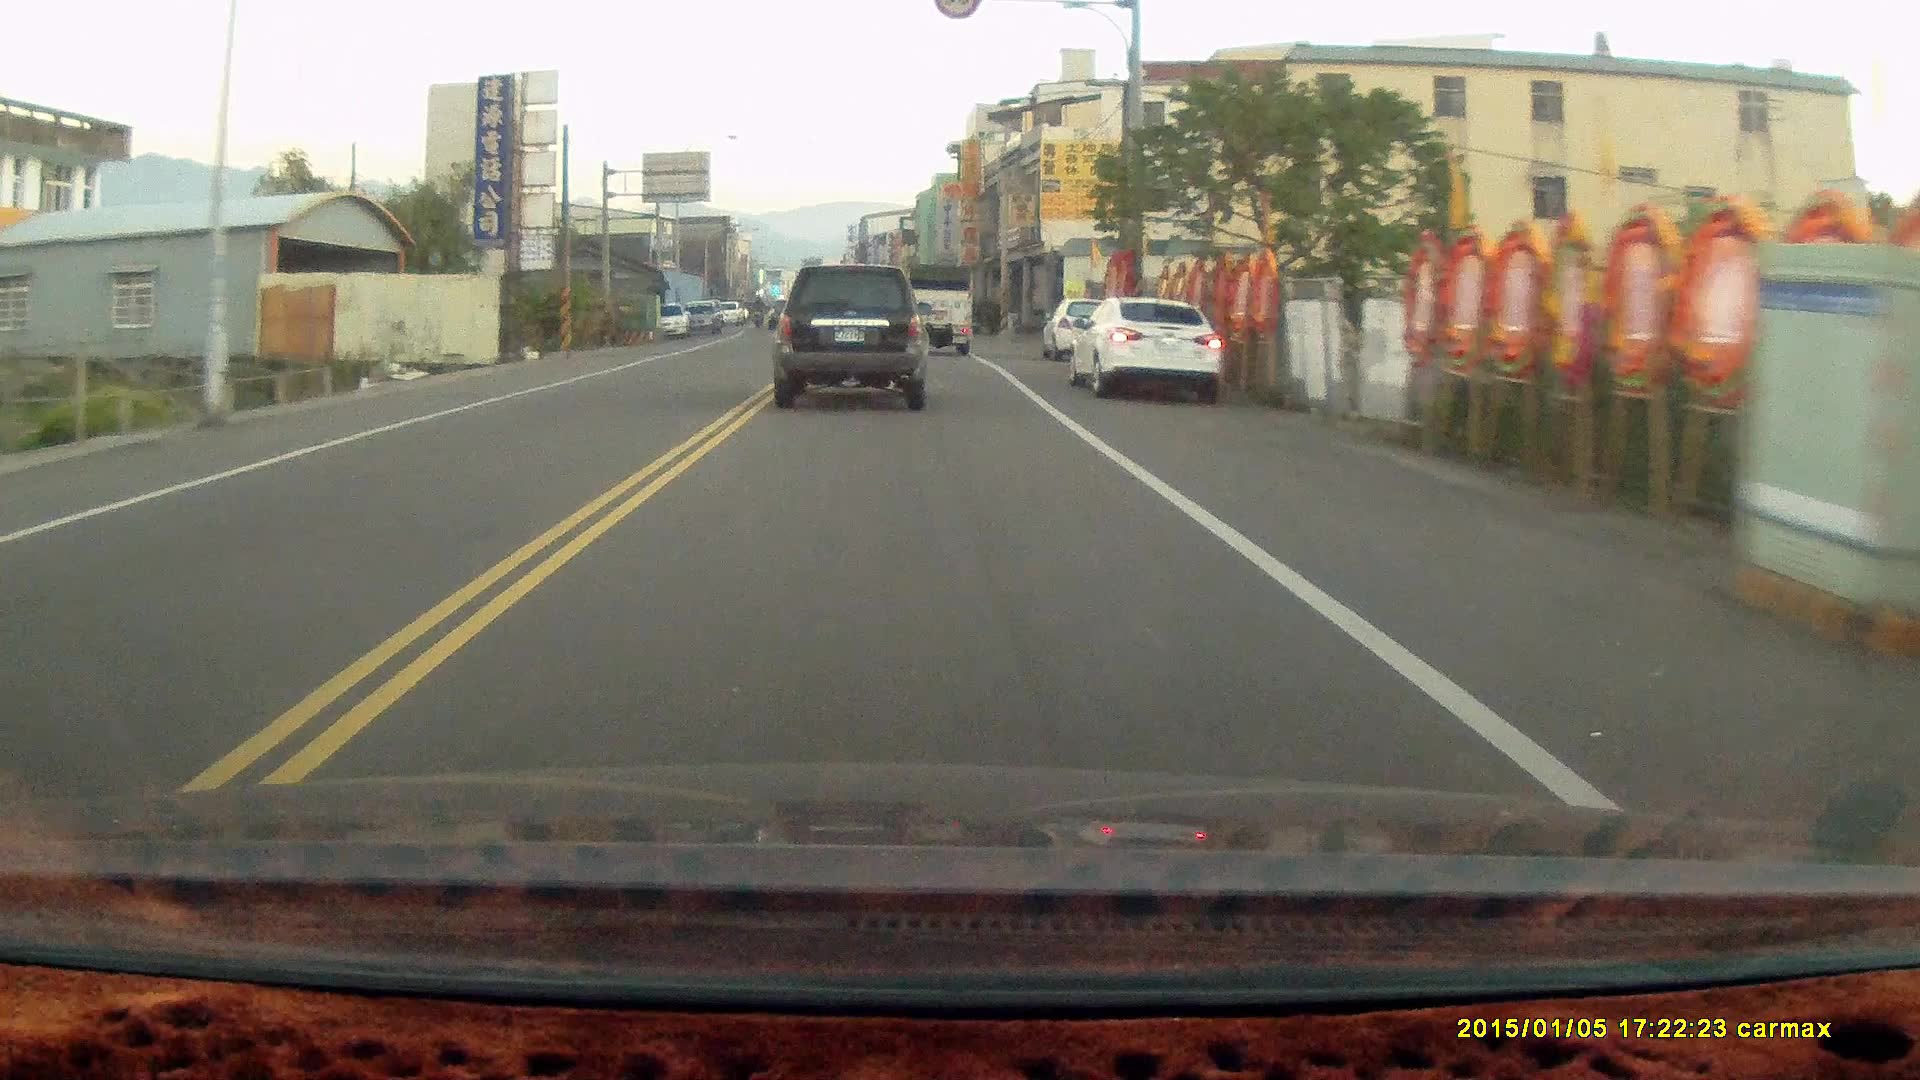vehicle: (771, 262, 934, 413), (1069, 293, 1220, 402), (903, 262, 978, 360)
